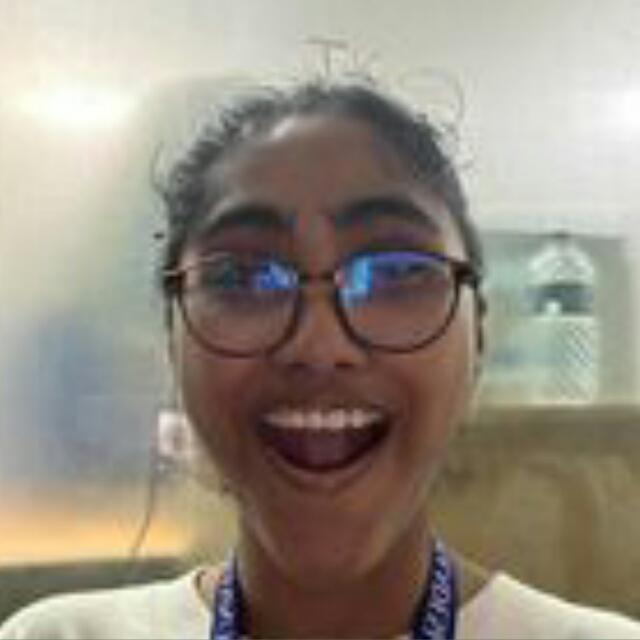Happy: (103, 136, 566, 608)
